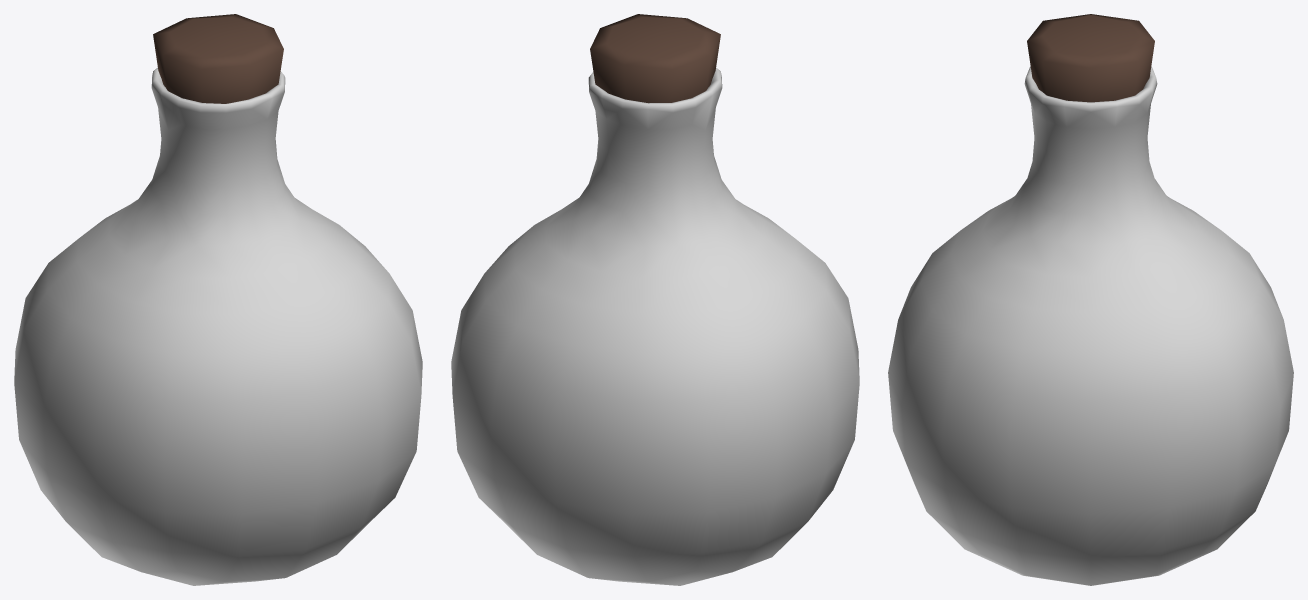
Rendered from Potion1_Filled.glb.
3 views of the same model, side by side, from view 1: azimuth 30°, elevation 25°; view 2: azimuth 150°, elevation 25°; view 3: azimuth 270°, elevation 25° (orthographic).
Parts seen in each view (by area): view 1: Potion1_Filled; view 2: Potion1_Filled; view 3: Potion1_Filled.
Part boxes in pixels (left/top/right/bottom): Potion1_Filled: left=14, top=14, right=422, bottom=585; Potion1_Filled: left=451, top=14, right=859, bottom=585; Potion1_Filled: left=888, top=14, right=1293, bottom=585.
Bounding box in the file's own units: 0.6685 × 0.9629 × 0.6685.
